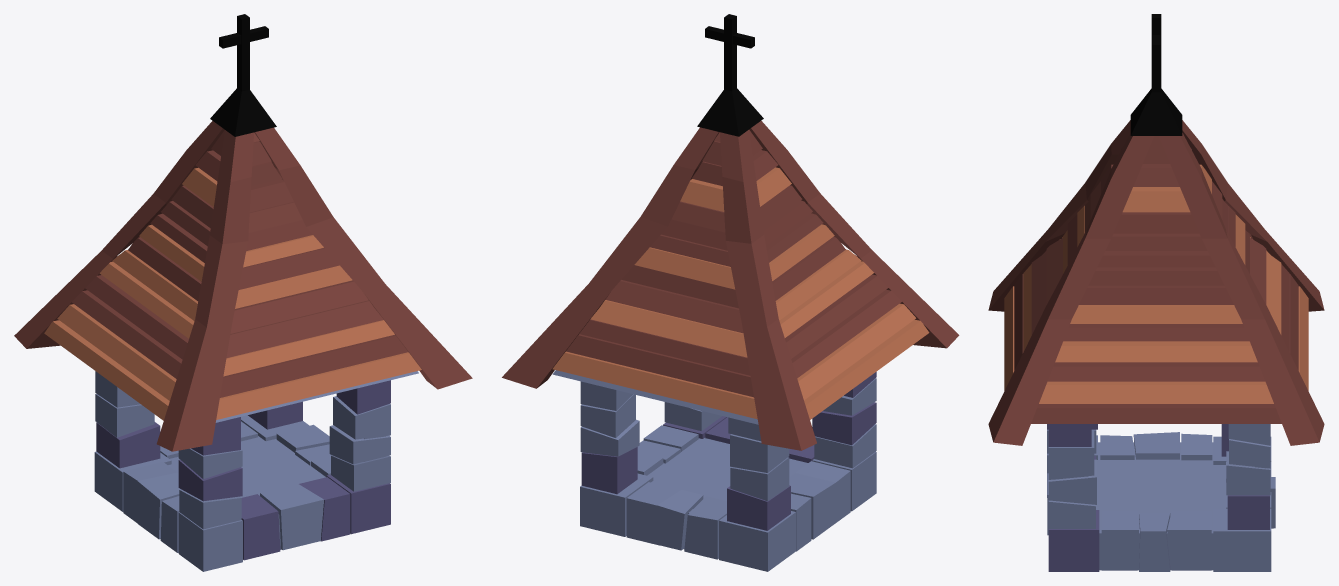
The model's file is Tower_02.fbx.
3 views of the same model, side by side, from view 1: azimuth 30°, elevation 25°; view 2: azimuth 150°, elevation 25°; view 3: azimuth 270°, elevation 25° (orthographic). The views are drawn at different scales.
Parts seen in each view (by area): view 1: Roof_Wooden_03, Tower_02; view 2: Roof_Wooden_03, Tower_02; view 3: Roof_Wooden_03, Tower_02.
Part boxes in pixels (box(x1,y1,x2,y2)): Roof_Wooden_03: box(14, 14, 472, 451); Tower_02: box(94, 371, 418, 571); Roof_Wooden_03: box(502, 14, 959, 450); Tower_02: box(552, 370, 876, 571); Roof_Wooden_03: box(988, 14, 1324, 445); Tower_02: box(1047, 424, 1275, 571).
Size of the model in its own units: 460 by 714 by 428.
